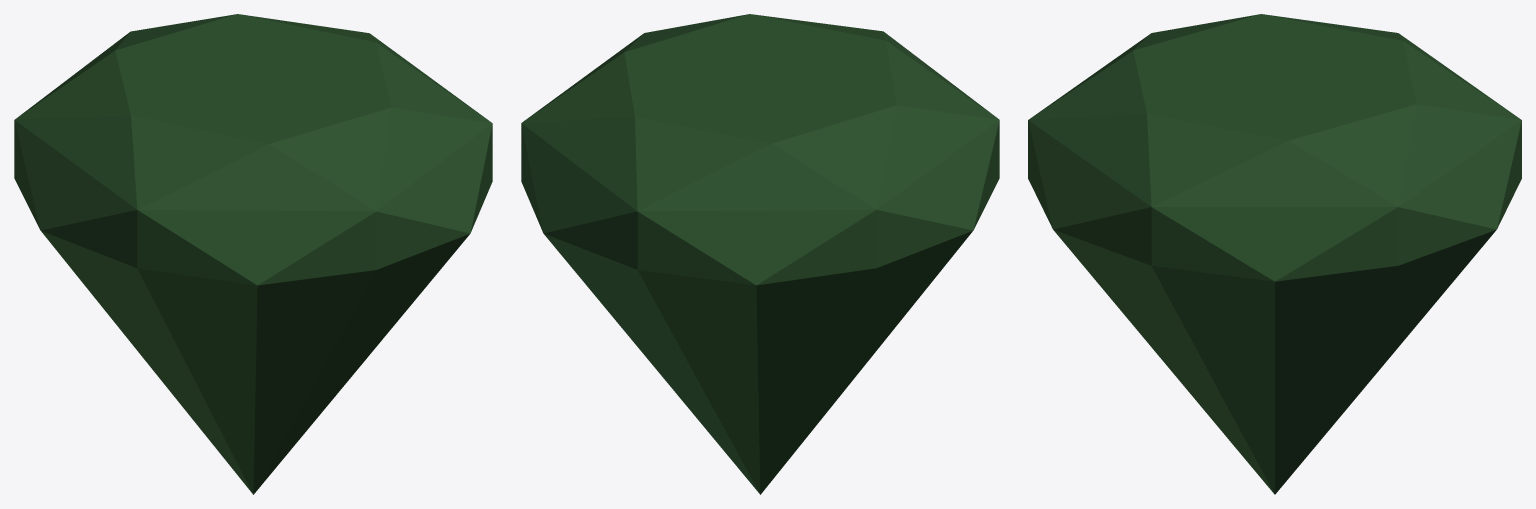
File: SM_Rhinestone.glb
The picture shows the model from 3 angles, left to right: view 1: azimuth 30°, elevation 25°; view 2: azimuth 150°, elevation 25°; view 3: azimuth 270°, elevation 25°; orthographic projection.
Parts seen in each view (by area): view 1: SM_Rhinestone; view 2: SM_Rhinestone; view 3: SM_Rhinestone.
Boxes of the visible parts, left/top/right/bottom form: SM_Rhinestone: left=14, top=14, right=492, bottom=494; SM_Rhinestone: left=521, top=14, right=999, bottom=494; SM_Rhinestone: left=1028, top=14, right=1521, bottom=494.
Bounding box in the file's own units: 0.15 × 0.14 × 0.15.
Materials: 1 (1 with a texture image).
